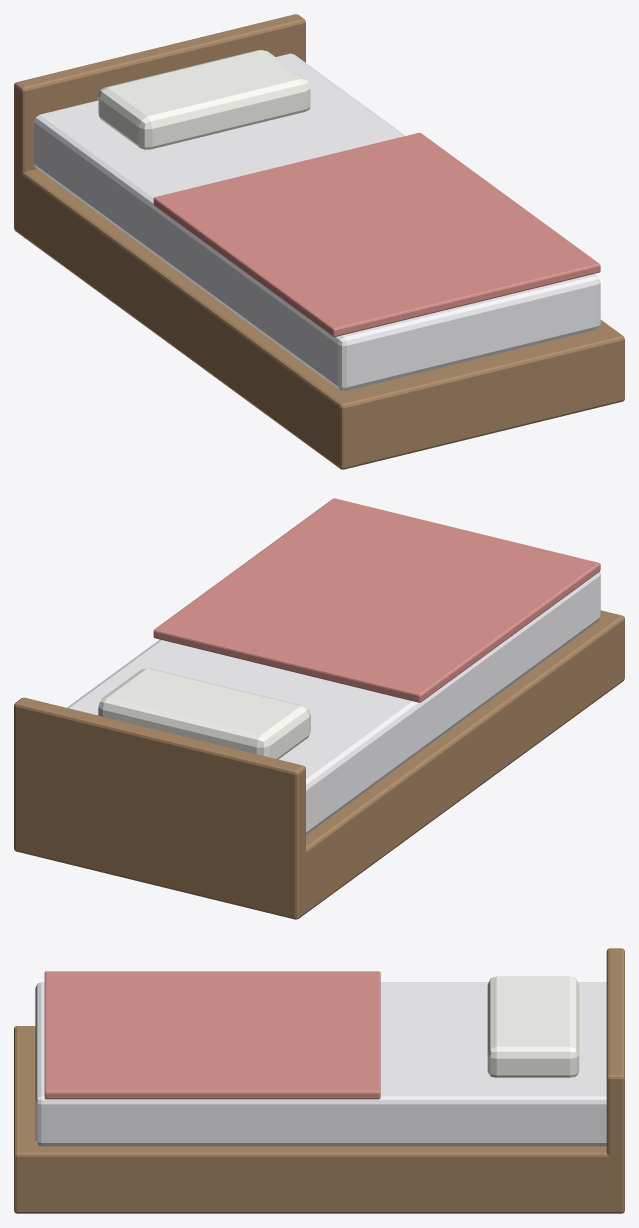
File: cama.glb
3 views of the same model, one above another, from view 1: azimuth 30°, elevation 25°; view 2: azimuth 150°, elevation 25°; view 3: azimuth 270°, elevation 25° (orthographic). The views are drawn at different scales.
Visible parts, largest first — view 1: Cobertor, Estrutura, Colchao, Travesseiro, Cabeceira; view 2: Cobertor, Cabeceira, Estrutura, Colchao, Travesseiro; view 3: Colchao, Estrutura, Cobertor, Travesseiro, Cabeceira.
Part boxes in pixels (box(x1,y1,x2,y2)): Cobertor: box(153, 132, 600, 336); Estrutura: box(14, 169, 624, 469); Colchao: box(34, 53, 600, 390); Travesseiro: box(98, 50, 310, 149); Cabeceira: box(14, 14, 305, 234); Cobertor: box(153, 498, 600, 702); Cabeceira: box(14, 697, 305, 919); Estrutura: box(14, 610, 624, 917); Colchao: box(67, 572, 600, 834); Travesseiro: box(98, 668, 310, 759); Colchao: box(35, 982, 606, 1146); Estrutura: box(14, 1026, 624, 1213); Cobertor: box(44, 971, 380, 1099); Travesseiro: box(487, 976, 579, 1077); Cabeceira: box(606, 948, 624, 1213).
Size of the model in its own units: 1 by 0.5 by 2.
